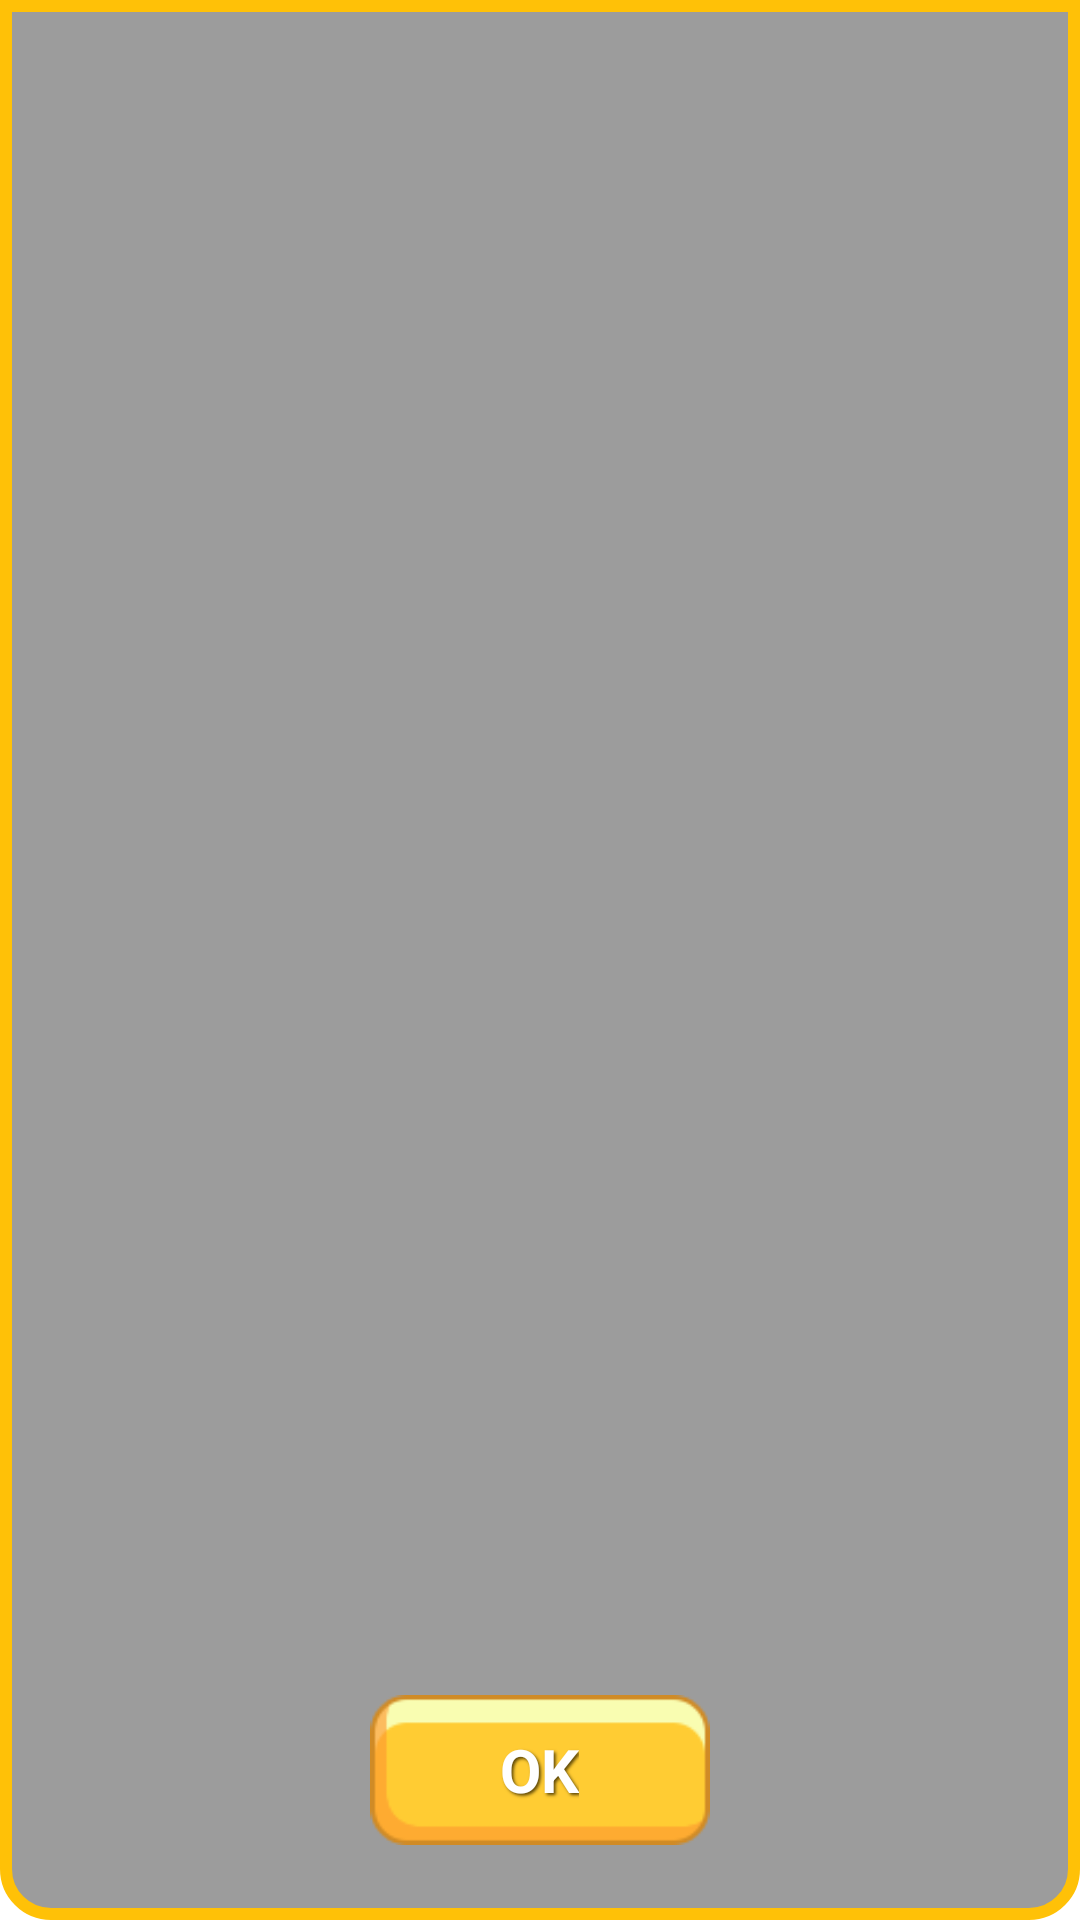

Locate icon controls on the screen. Image size 1080×1920, boxes as (x1, y1, x2, y2).
bbutton: (370, 1695, 710, 1845)
